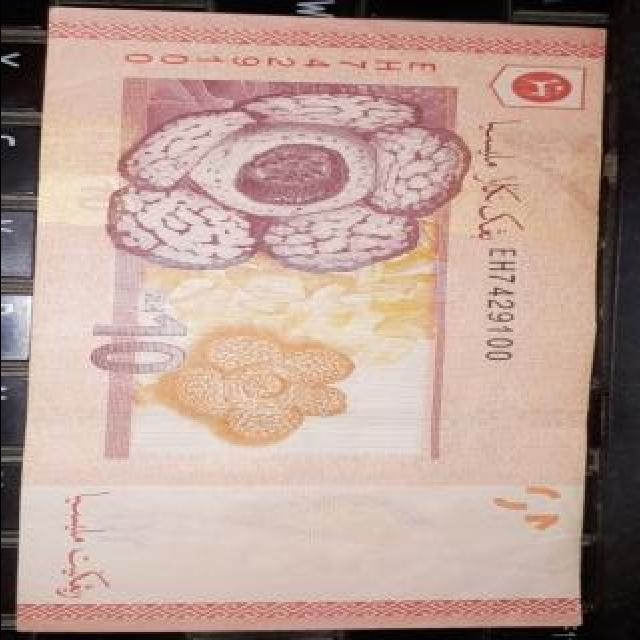10 Ringgit: (31, 16, 588, 630)
